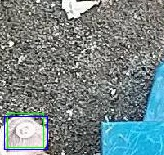text: (7, 113, 43, 147)
